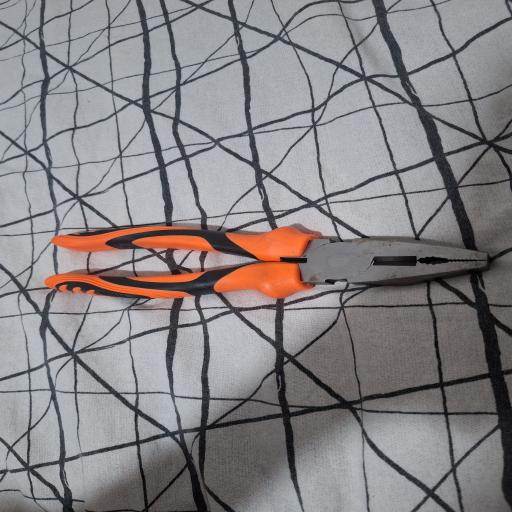alicate: (44, 220, 494, 301)
